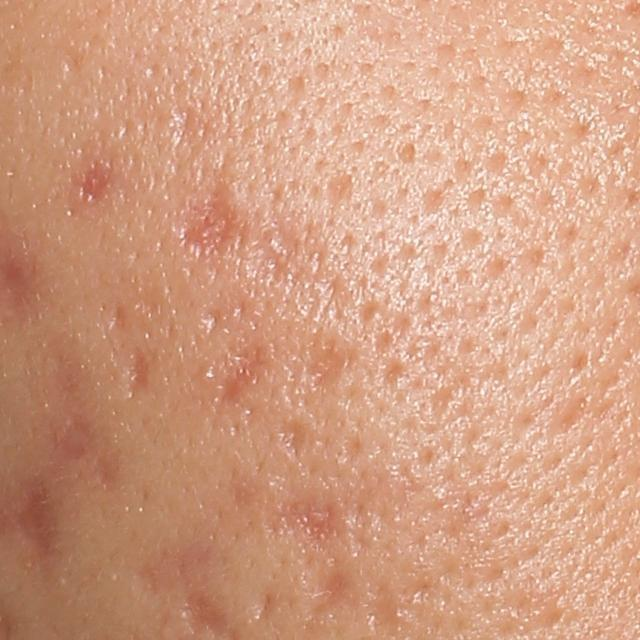atrophic_scar: (176, 154, 238, 261), (61, 400, 121, 496), (264, 492, 345, 552), (252, 213, 312, 291), (1, 480, 61, 558), (205, 333, 269, 402), (301, 333, 354, 400), (164, 80, 202, 169), (364, 580, 404, 639), (549, 392, 596, 438), (308, 568, 345, 622), (74, 158, 111, 209), (274, 419, 310, 464), (121, 347, 149, 401), (324, 171, 352, 212), (380, 360, 405, 397), (247, 591, 274, 622), (358, 300, 386, 326), (111, 306, 125, 332)
